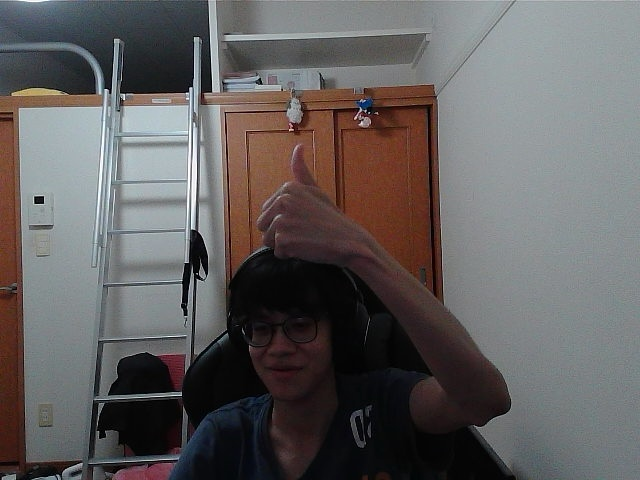thumb_up: (265, 152, 345, 255)
